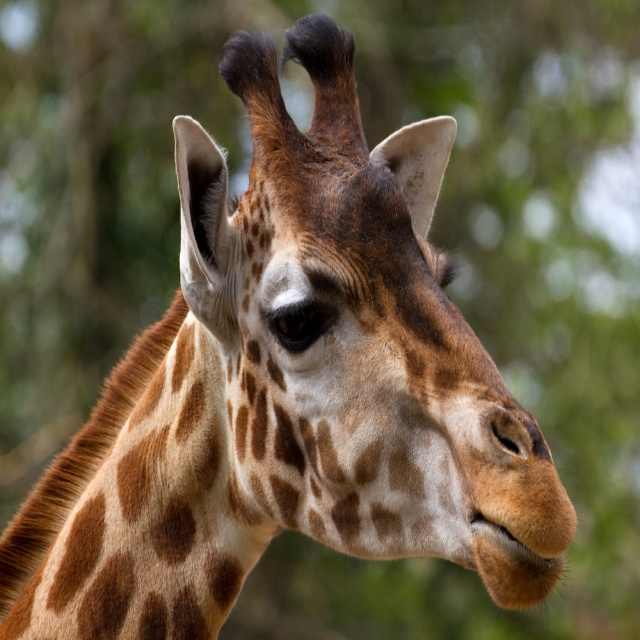Giraffe: (2, 11, 580, 639)
